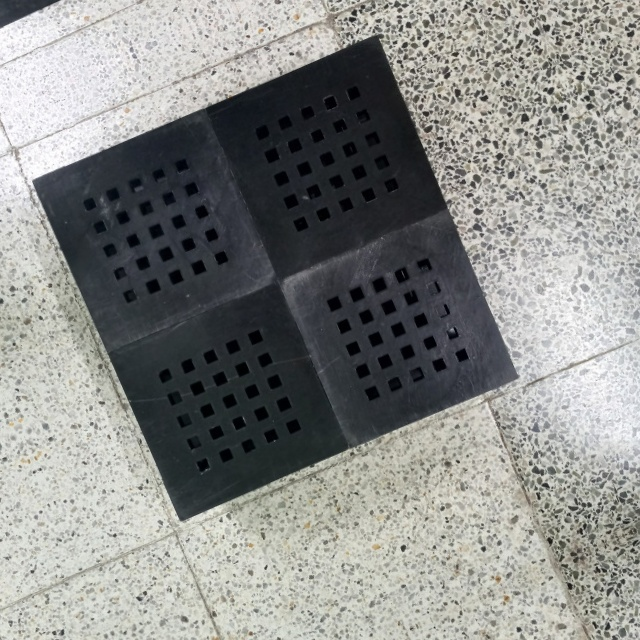pallet: (29, 22, 528, 541)
